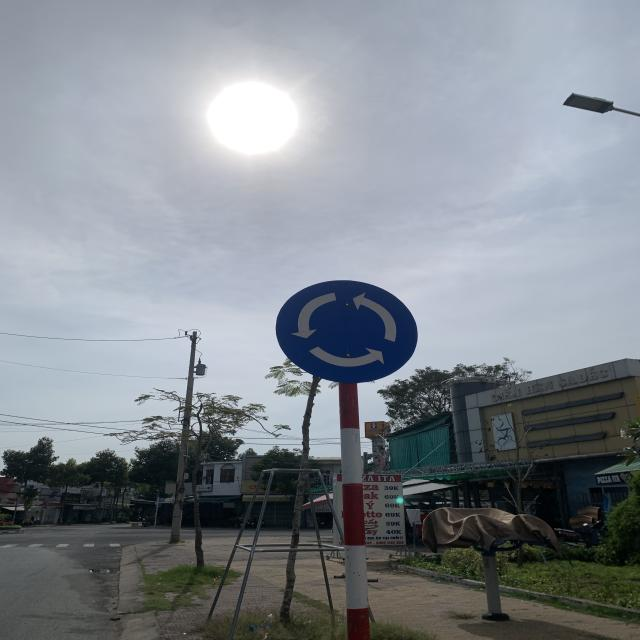Xe_Bus: (272, 278, 423, 386)
